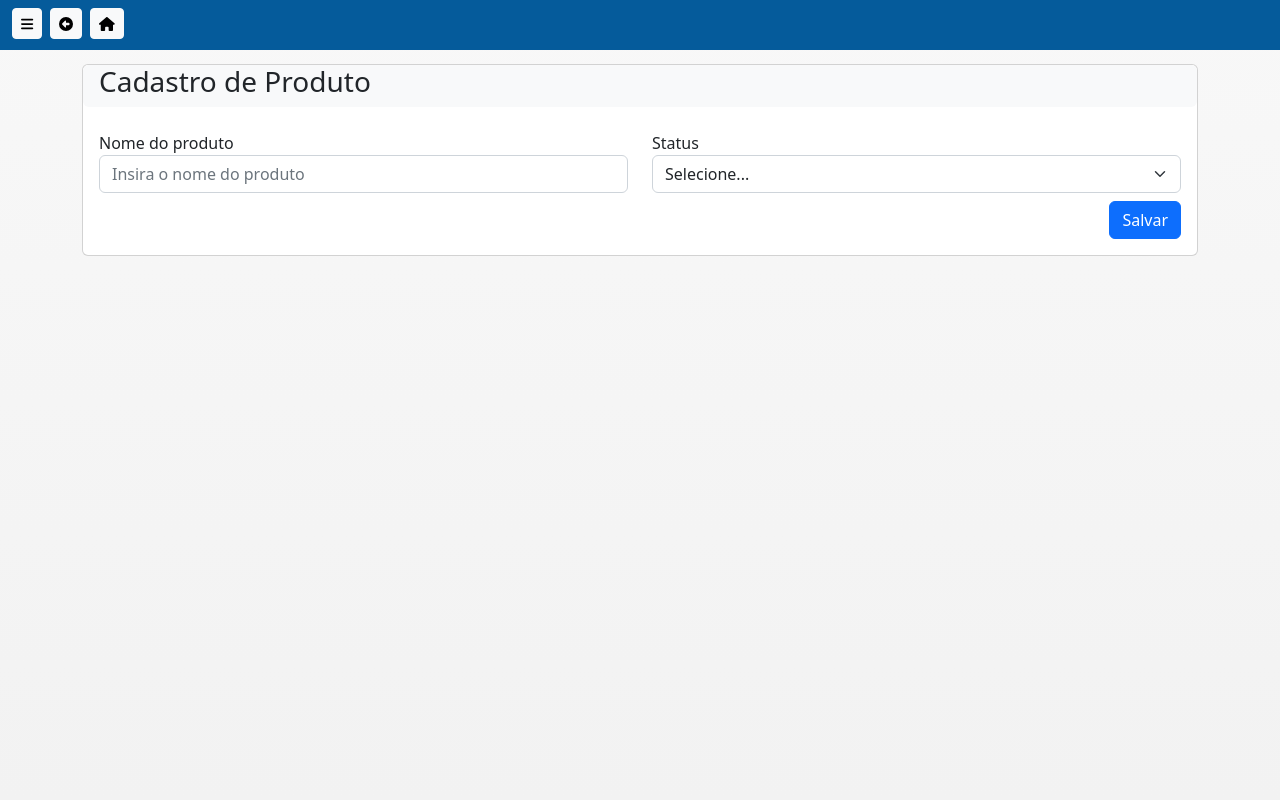
Scenario: Cadastro de Produto › Deve preencher o formulário e enviar
Type "Nome do Produto" into the field with id "nome" at (364, 174), box [99,155,628,193]
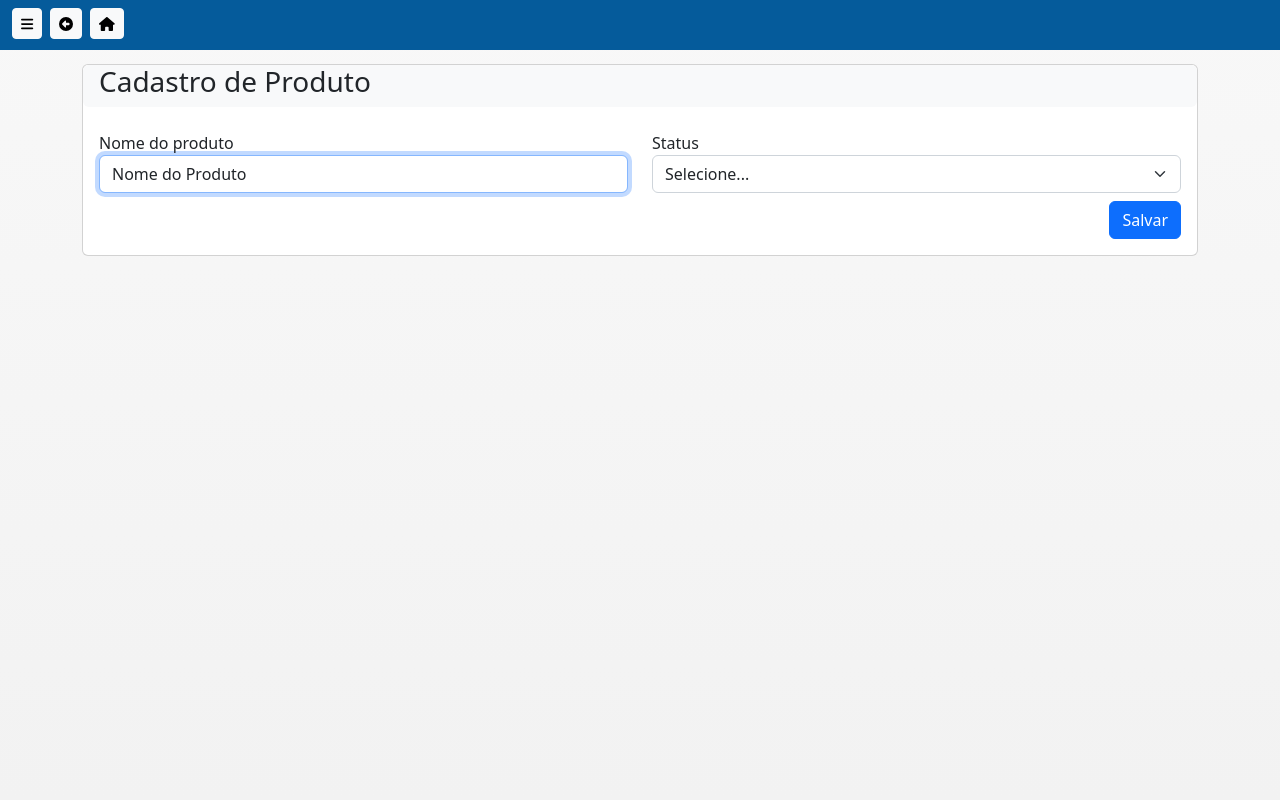
Select "Ativo" in the dropdown with id "status" at (917, 174), box [652,155,1181,193]
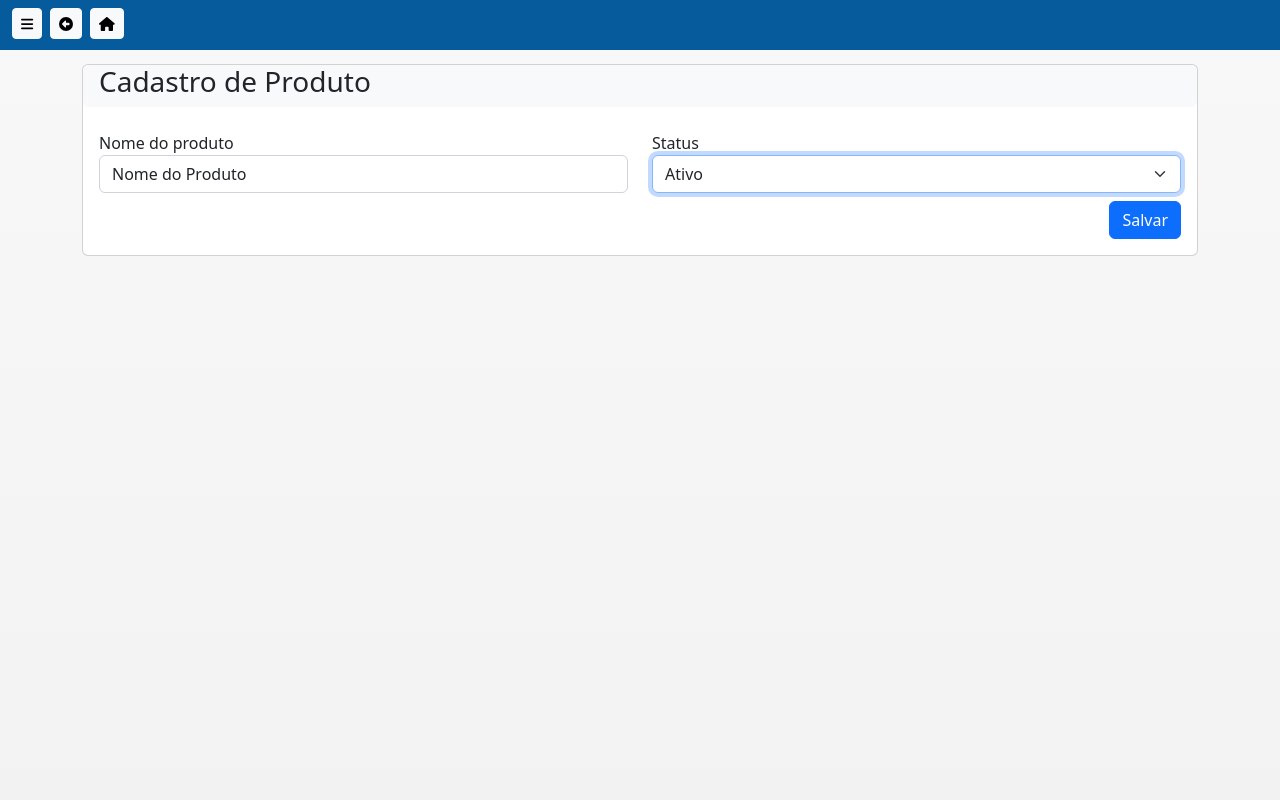
Click the submit button at (1145, 220), box [1109,201,1181,239]
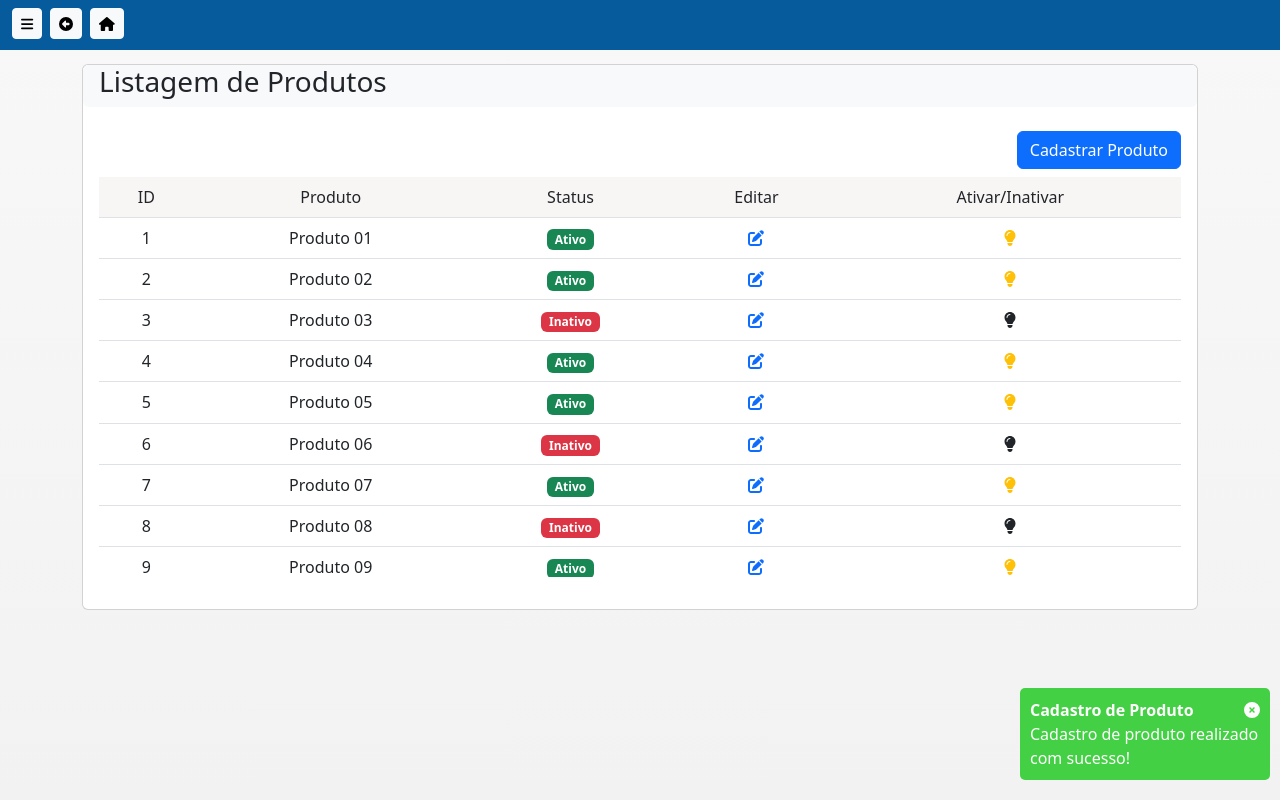
Now the element with class "notification" is shown, box [1020,688,1270,780]
